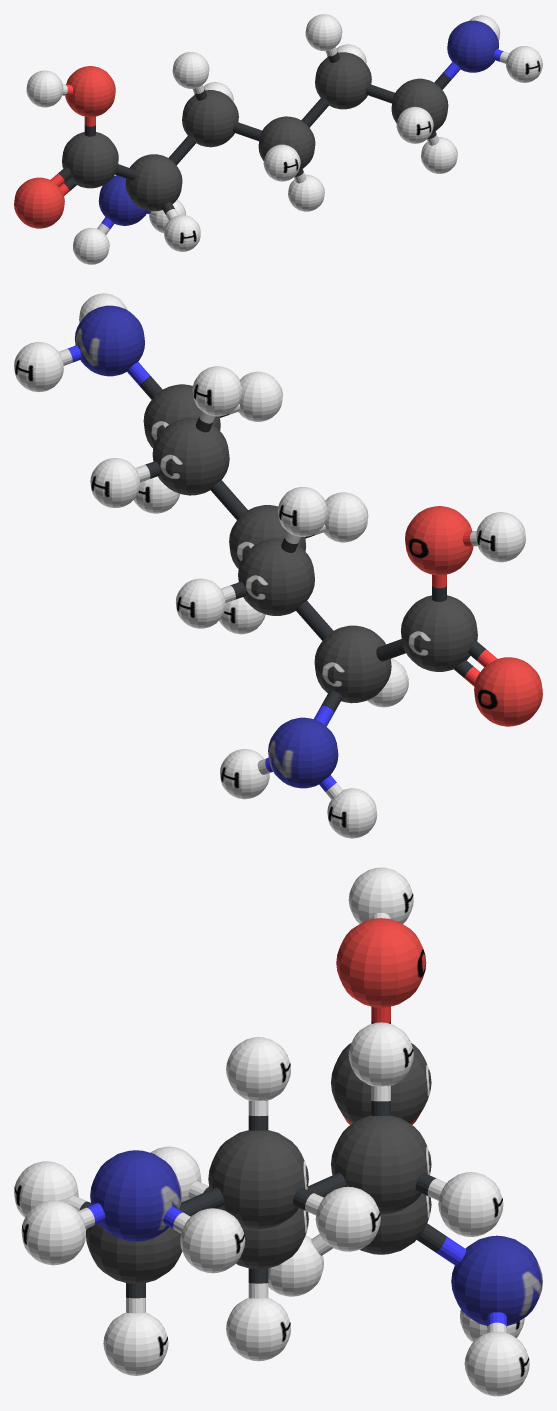
Rendered from Lisina.fbx.
3 renders of one model, top to bottom at view 1: azimuth 30°, elevation 25°; view 2: azimuth 150°, elevation 25°; view 3: azimuth 270°, elevation 25°, orthographic. The views are drawn at different scales.
Parts seen in each view (by area): view 1: Lisina; view 2: Lisina; view 3: Lisina.
Boxes of the visible parts, x1=… form: Lisina: x1=14, y1=14, x2=542, y2=264; Lisina: x1=14, y1=293, x2=542, y2=838; Lisina: x1=14, y1=867, x2=542, y2=1396.
Bounding box in the file's own units: 26.64 × 15.04 × 16.09.
Materials: 8 (4 with a texture image).
